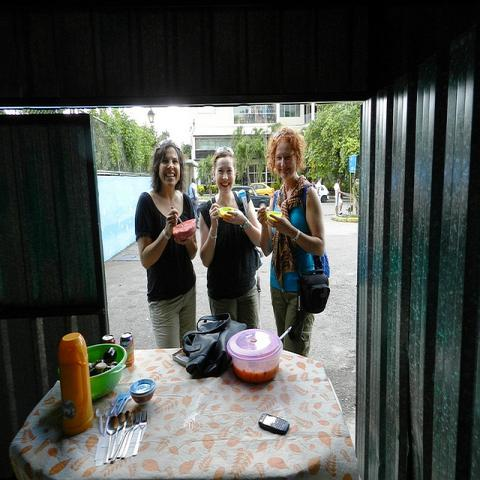car: (232, 186, 270, 210), (249, 183, 275, 198), (320, 185, 330, 203)
